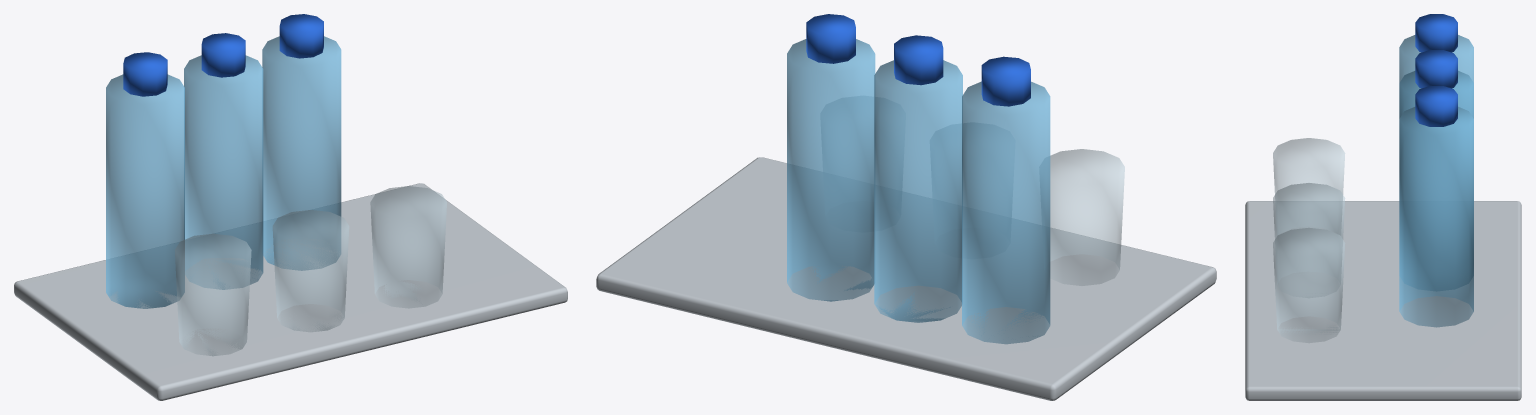
File: WaterBottles.fbx
3 renders of one model, left to right at view 1: azimuth 30°, elevation 25°; view 2: azimuth 150°, elevation 25°; view 3: azimuth 270°, elevation 25°, orthographic. The views are drawn at different scales.
Parts seen in each view (by area): view 1: WaterBottlesBody; view 2: WaterBottlesBody; view 3: WaterBottlesBody.
Part boxes in pixels (left/top/right/bottom): WaterBottlesBody: left=14, top=14, right=567, bottom=400; WaterBottlesBody: left=596, top=14, right=1216, bottom=400; WaterBottlesBody: left=1245, top=14, right=1521, bottom=400.
Bounding box in the file's own units: 0.42 × 0.2405 × 0.26.
